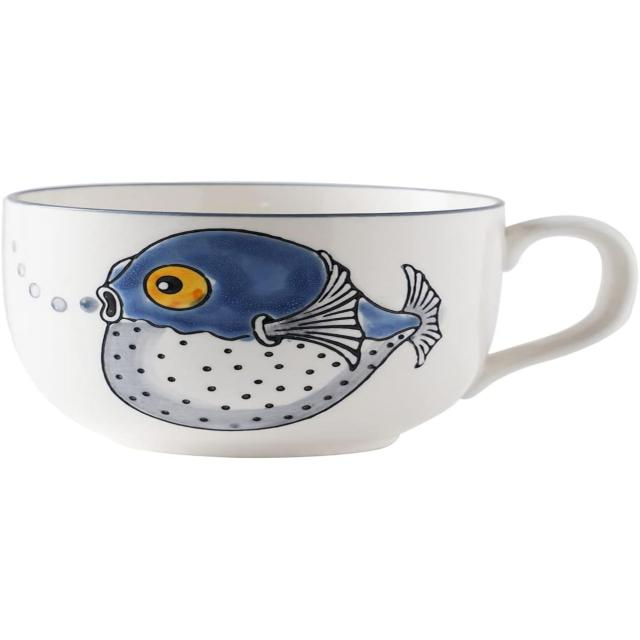glass cup: (2, 181, 640, 458)
